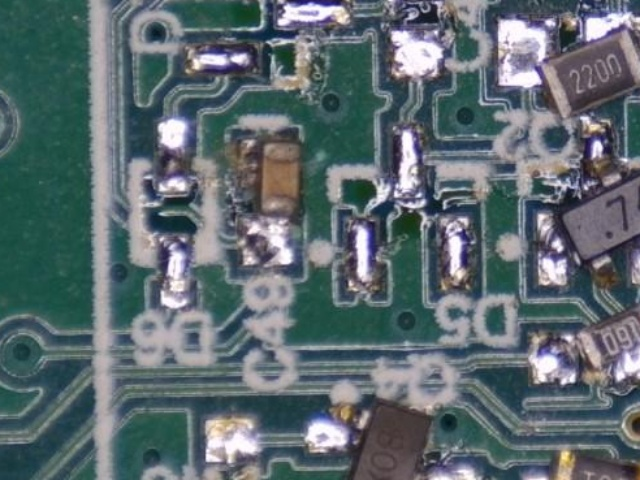pcb_defect: (536, 118, 640, 292), (497, 15, 640, 122), (300, 399, 479, 480), (529, 300, 640, 384), (236, 139, 304, 268), (523, 450, 640, 480)
